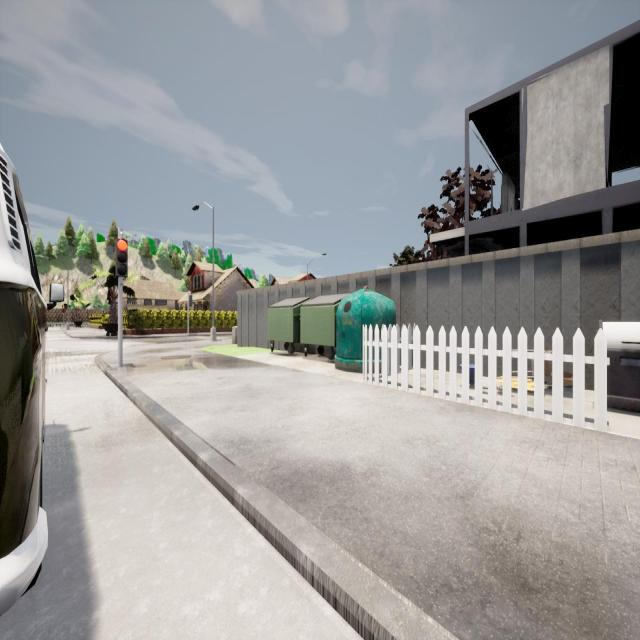Vehicle: (0, 138, 66, 614)
traffic_light: (115, 238, 128, 277), (189, 294, 193, 306), (62, 306, 65, 313)
